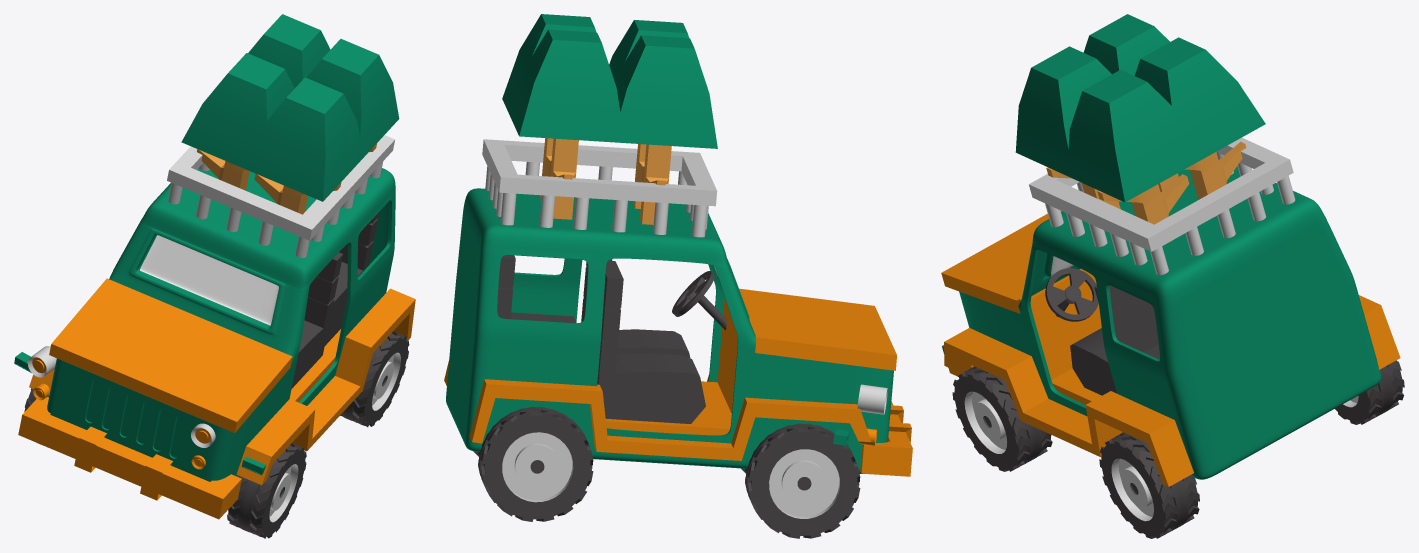
Rendered from jeep.glb.
3 renders of one model, left to right at view 1: azimuth 30°, elevation 25°; view 2: azimuth 150°, elevation 25°; view 3: azimuth 270°, elevation 25°, orthographic. The views are drawn at different scales.
Visible parts, largest first — view 1: Cube.137, Cube.138, Cube.154, Cube.153, Cube.144, Cube.147, Cube.146, Cube.151, Cylinder.017, Cube.152, Cylinder.018, Cube.139 (+5 smaller); view 2: Cube.137, Cube.152, Cube.153, Cylinder.020, Cylinder.019, Cube.145, Cube.138, Cube.140, Cube.146, Cylinder.028, Cube.151, Cube.142 (+7 smaller); view 3: Cube.137, Cube.151, Cube.144, Cube.152, Cube.146, Cube.154, Cylinder.018, Cylinder.017, Cube.138, Cube.139, Cylinder.028, Cube.143 (+5 smaller).
Boxes of the visible parts, <box> form: Cube.137: <box>47,168,395,481</box>; Cube.138: <box>49,278,292,432</box>; Cube.154: <box>240,77,363,214</box>; Cube.153: <box>181,53,294,190</box>; Cube.144: <box>236,288,415,485</box>; Cube.147: <box>18,397,241,519</box>; Cube.146: <box>167,135,395,240</box>; Cube.151: <box>306,39,399,157</box>; Cylinder.017: <box>227,443,306,538</box>; Cube.152: <box>248,14,330,87</box>; Cylinder.018: <box>340,331,409,427</box>; Cube.139: <box>291,252,343,388</box>; Cube.137: <box>446,188,893,473</box>; Cube.152: <box>512,29,624,219</box>; Cube.153: <box>615,35,717,224</box>; Cylinder.020: <box>478,407,593,521</box>; Cylinder.019: <box>745,423,860,538</box>; Cube.145: <box>469,379,871,460</box>; Cube.138: <box>739,288,896,370</box>; Cube.140: <box>597,260,705,423</box>; Cube.146: <box>482,139,717,206</box>; Cylinder.028: <box>485,162,708,237</box>; Cube.151: <box>502,14,596,200</box>; Cube.142: <box>605,381,731,435</box>; Cube.137: <box>959,166,1381,479</box>; Cube.151: <box>1067,69,1207,245</box>; Cube.144: <box>944,328,1193,486</box>; Cube.152: <box>1134,37,1265,217</box>; Cube.146: <box>1029,137,1293,251</box>; Cube.154: <box>1015,46,1120,208</box>; Cylinder.018: <box>1099,432,1199,538</box>; Cylinder.017: <box>952,366,1052,471</box>; Cube.138: <box>941,211,1061,313</box>; Cube.139: <box>1070,285,1158,395</box>; Cylinder.028: <box>1045,152,1295,275</box>; Cube.143: <box>1017,269,1101,379</box>.
Size of the model in its own units: 13.66 by 13.87 by 12.29.
